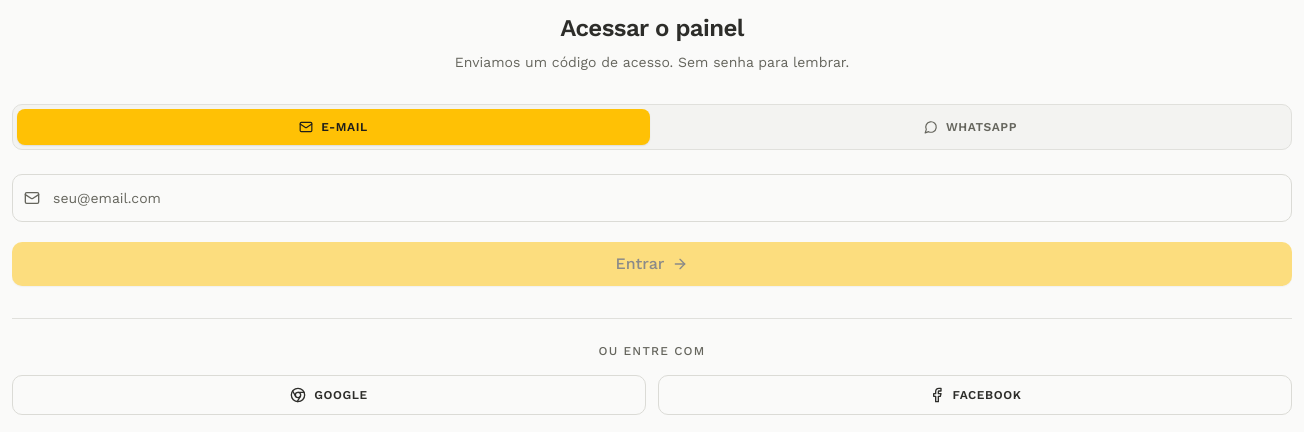
S1 9.4.2 — o login em etapas nas duas abas › ABA WHATSAPP: troca de canal, pede o código só com dígitos e avança
Click the button "WhatsApp" at (970, 127), box x1=654 y1=109 x2=1287 y2=145
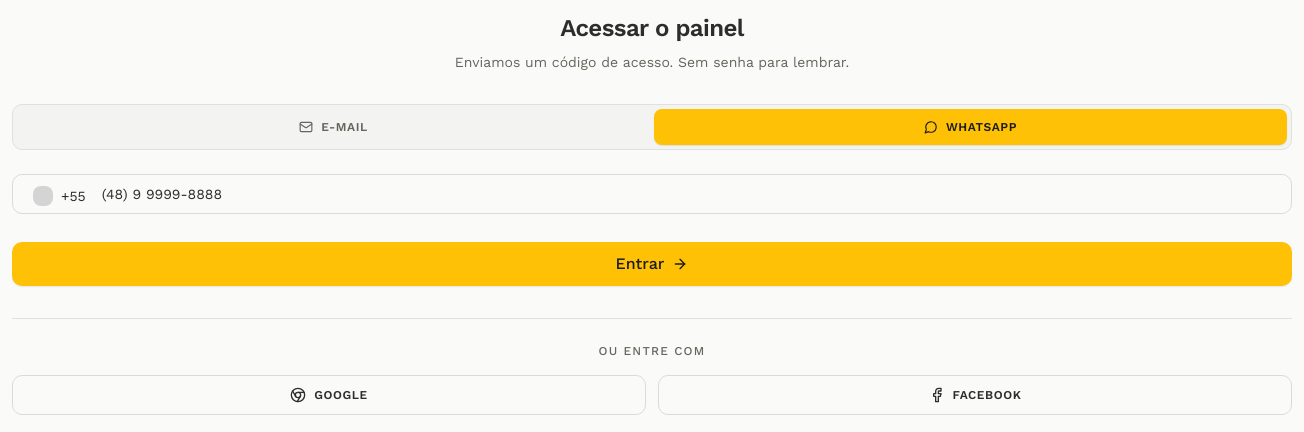
Click the 1st button named "entrar" at (652, 264), box x1=12 y1=242 x2=1292 y2=286
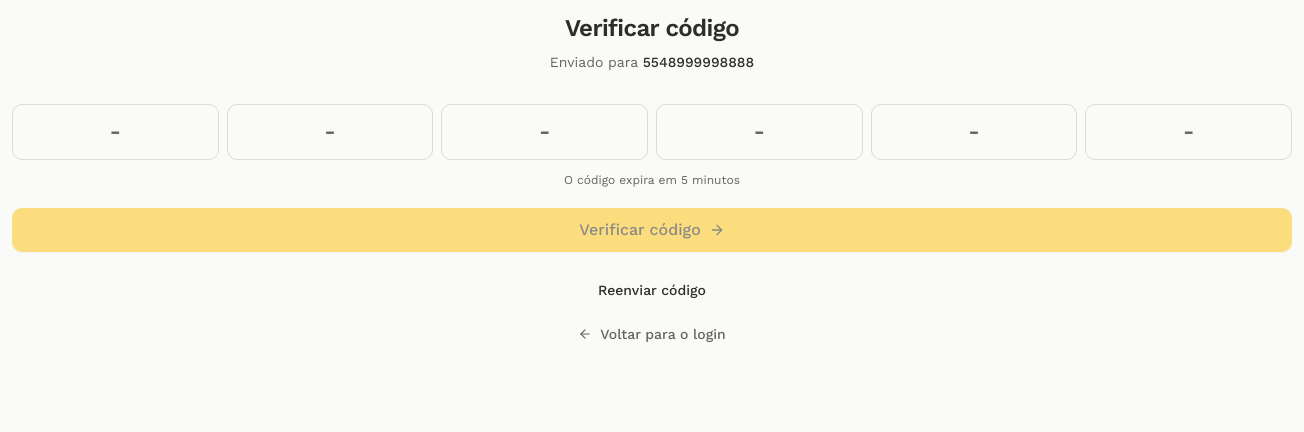
expect the heading "Verificar código" is shown: met, box x1=565 y1=14 x2=739 y2=42
